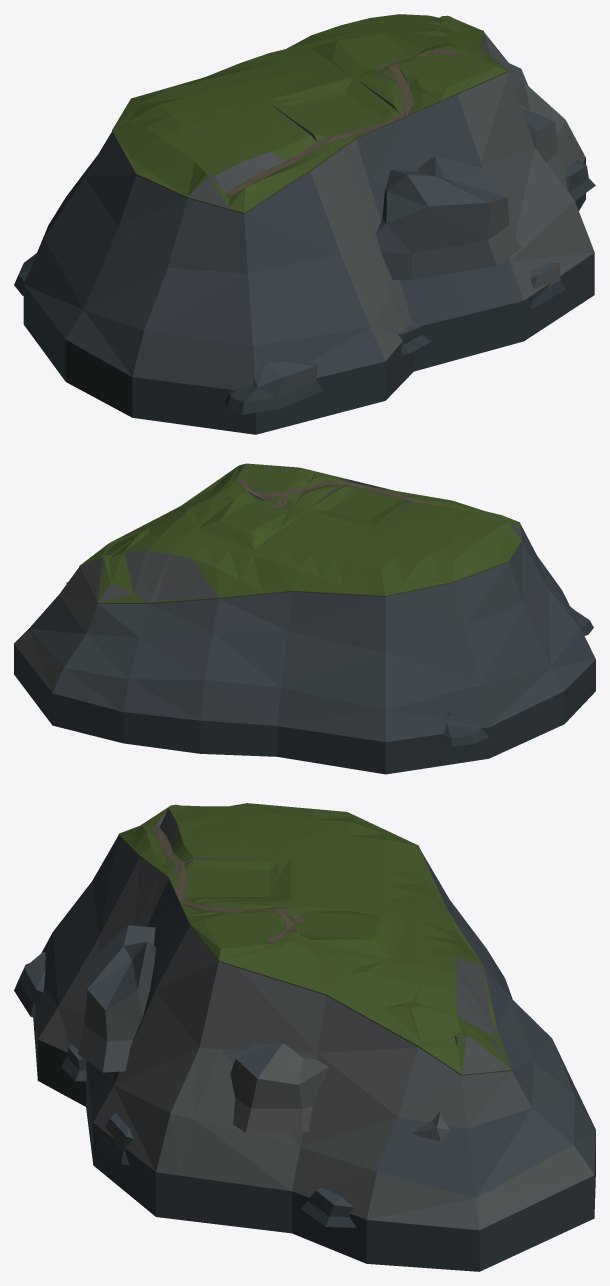
Rendered from island_a.glb.
3 renders of one model, top to bottom at view 1: azimuth 30°, elevation 25°; view 2: azimuth 150°, elevation 25°; view 3: azimuth 270°, elevation 25°, orthographic. The views are drawn at different scales.
Visible parts, largest first — view 1: island_a faulted bedrock, island_a grass and exposed rock terrain, island_a cliff outcrop 00, island_a low shore ledge 00, island_a terrain fitted keeper paths, island_a cliff outcrop 01, island_a low shore ledge 02, island_a low shore ledge 03, island_a low shore ledge 01; view 2: island_a faulted bedrock, island_a grass and exposed rock terrain, island_a terrain fitted keeper paths, island_a low shore ledge 04; view 3: island_a faulted bedrock, island_a grass and exposed rock terrain, island_a cliff outcrop 00, island_a cliff outcrop 01, island_a terrain fitted keeper paths, island_a low shore ledge 03, island_a low shore ledge 00, island_a low shore ledge 02, island_a low shore ledge 01.
Boxes of the visible parts, x1,y1,x2,y2 form: island_a faulted bedrock: (23, 32, 594, 434); island_a grass and exposed rock terrain: (112, 14, 508, 213); island_a cliff outcrop 00: (376, 156, 521, 280); island_a low shore ledge 00: (225, 361, 322, 414); island_a terrain fitted keeper paths: (225, 49, 461, 196); island_a cliff outcrop 01: (520, 104, 567, 178); island_a low shore ledge 02: (530, 262, 565, 308); island_a low shore ledge 03: (564, 160, 595, 200); island_a low shore ledge 01: (398, 321, 430, 354); island_a faulted bedrock: (14, 524, 595, 774); island_a grass and exposed rock terrain: (79, 463, 521, 603); island_a terrain fitted keeper paths: (235, 478, 447, 508); island_a low shore ledge 04: (439, 711, 488, 747); island_a faulted bedrock: (33, 835, 595, 1271); island_a grass and exposed rock terrain: (118, 803, 511, 1075); island_a cliff outcrop 00: (77, 925, 155, 1072); island_a cliff outcrop 01: (230, 1043, 328, 1132); island_a terrain fitted keeper paths: (149, 827, 306, 943); island_a low shore ledge 03: (301, 1187, 356, 1227); island_a low shore ledge 00: (14, 952, 45, 1017); island_a low shore ledge 02: (98, 1113, 133, 1165); island_a low shore ledge 01: (61, 1043, 86, 1081).
Bounding box in the file's own units: 101 × 36.11 × 81.45.
